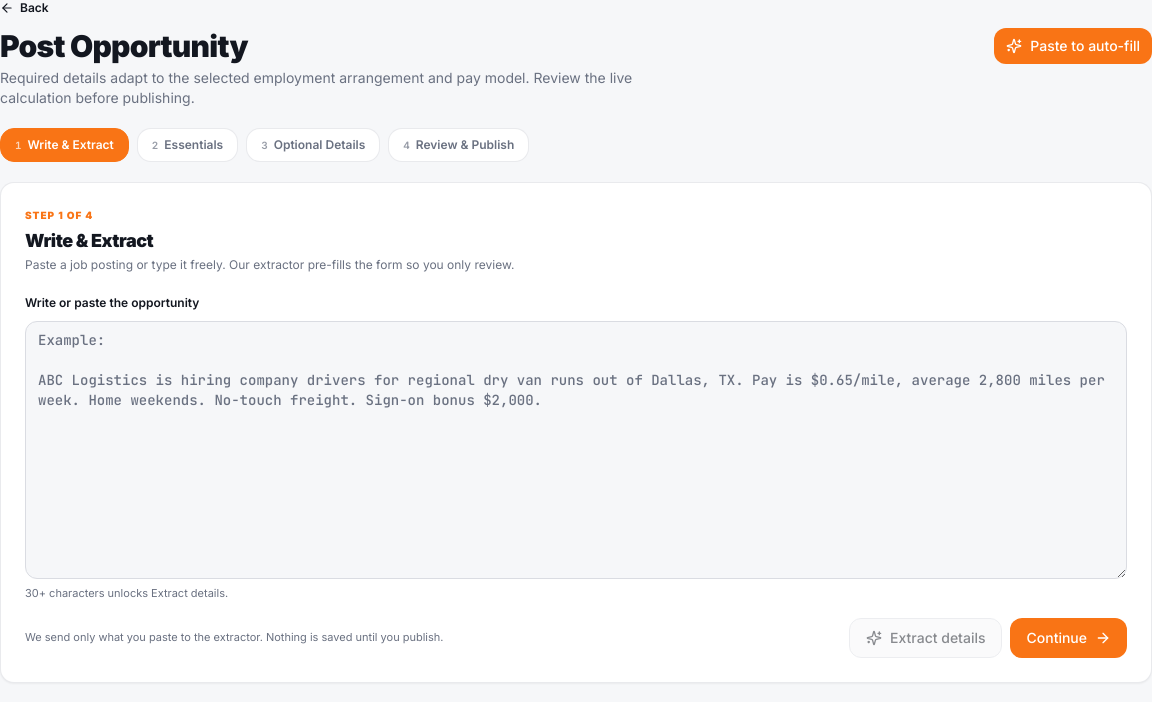
Test: Phase 1O-A — employment-driven cost visibility (Optional Details) › company-driver hides cost fields, hides fuel, and shows the locked not-applicable notice
Click the tab "2Essentials": [188, 145] box [137,128,238,162]
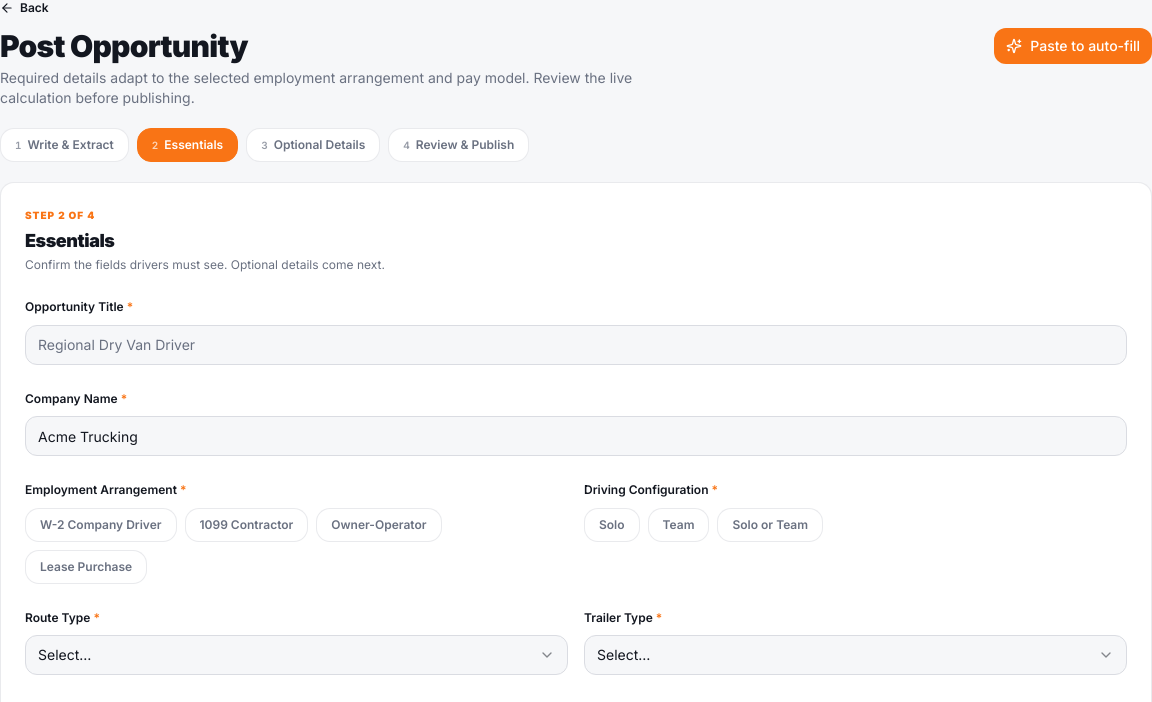
Click the button "W-2 Company Driver": [101, 525] box [25,508,176,542]
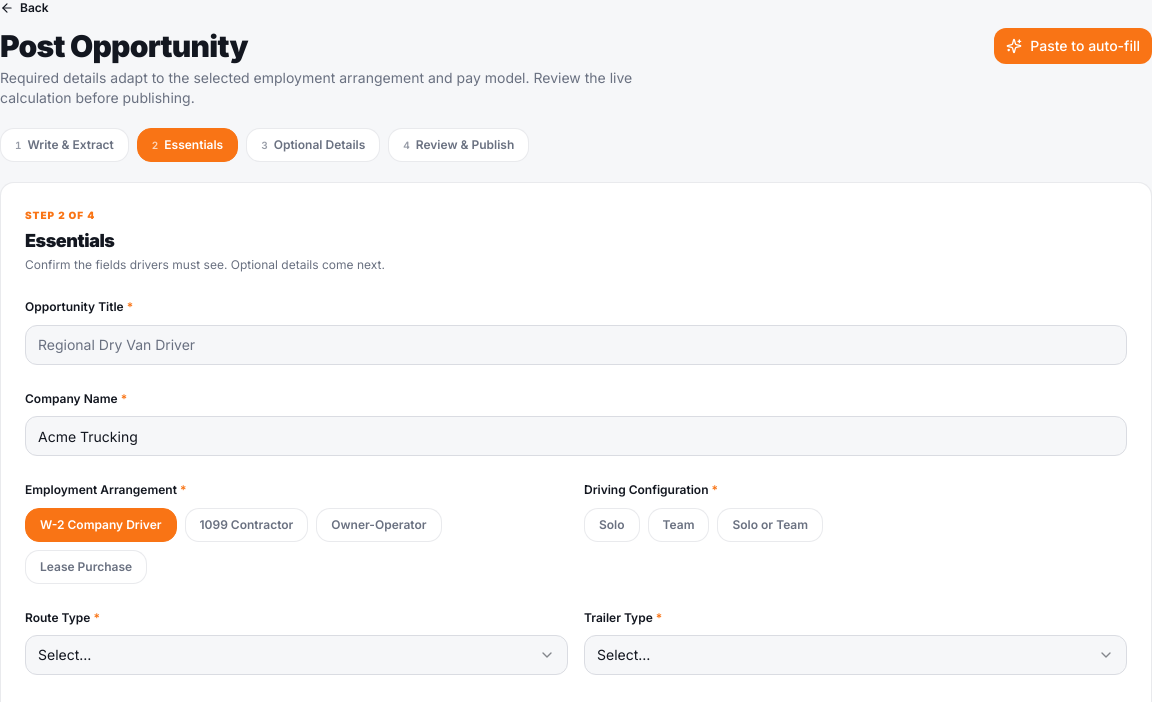
Click the tab "3Optional Details": [313, 145] box [246,128,380,162]
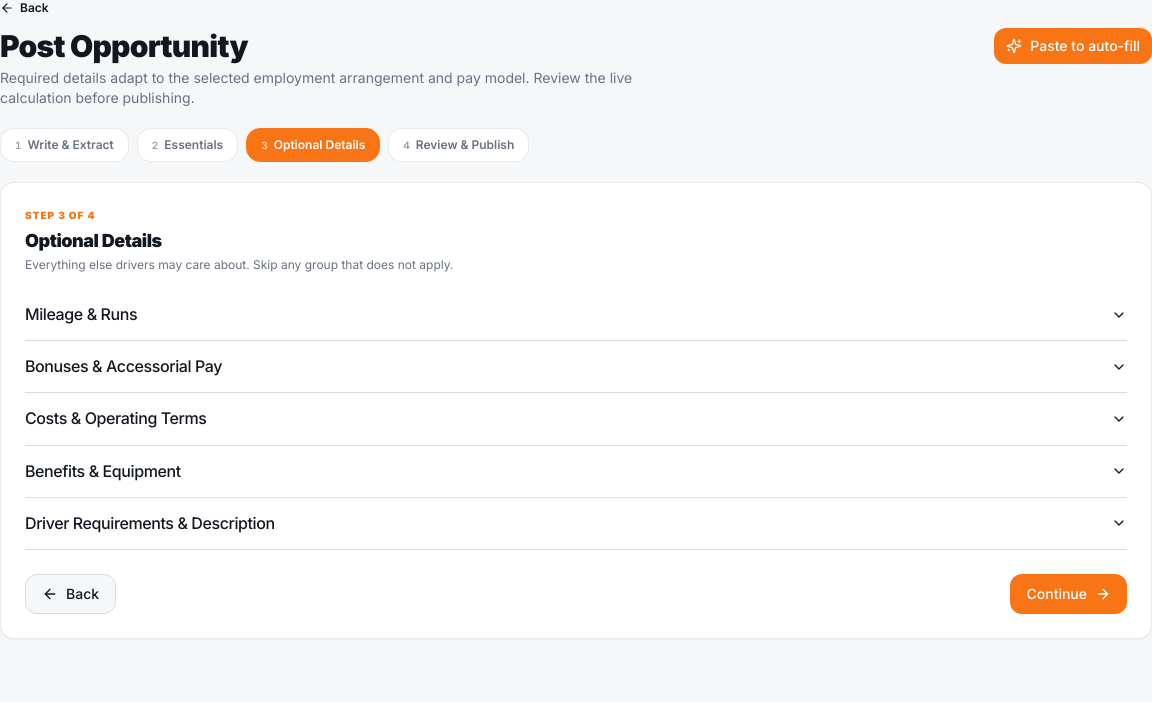
Click the button "Costs & Operating Terms": [116, 418] box [25,393,1127,445]
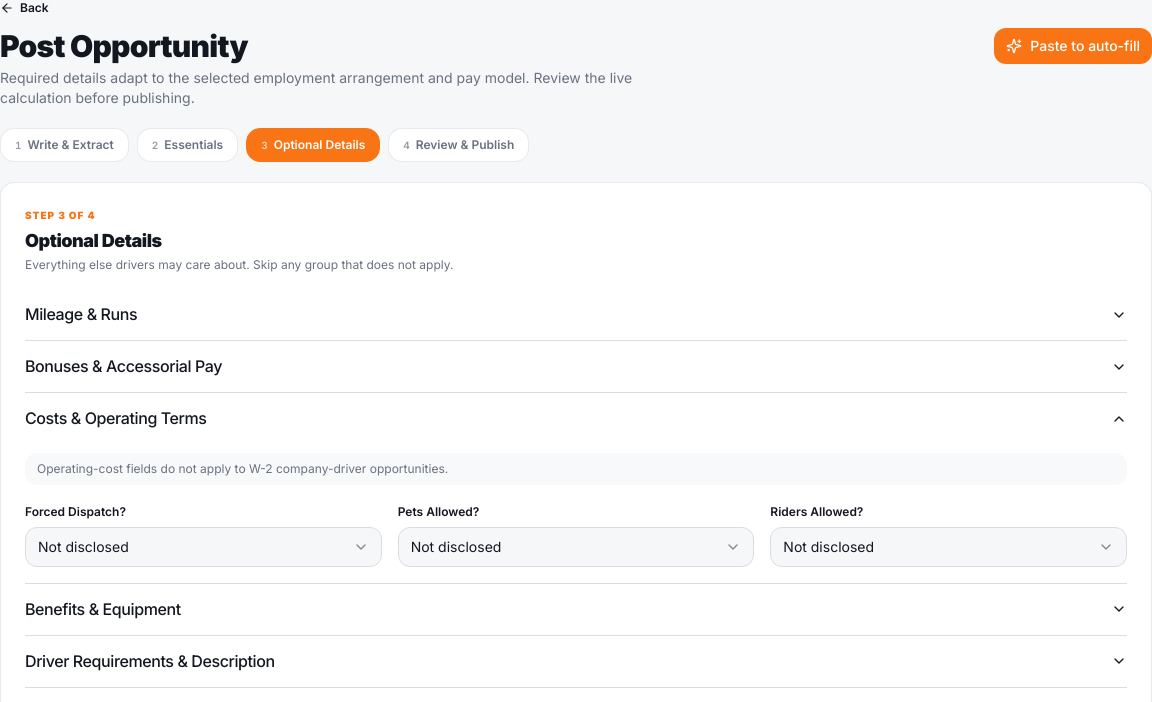
Expected: the text "Operating-cost fields do not apply to W-2 company-driver opportunities." is shown, [25,453,1127,485]
